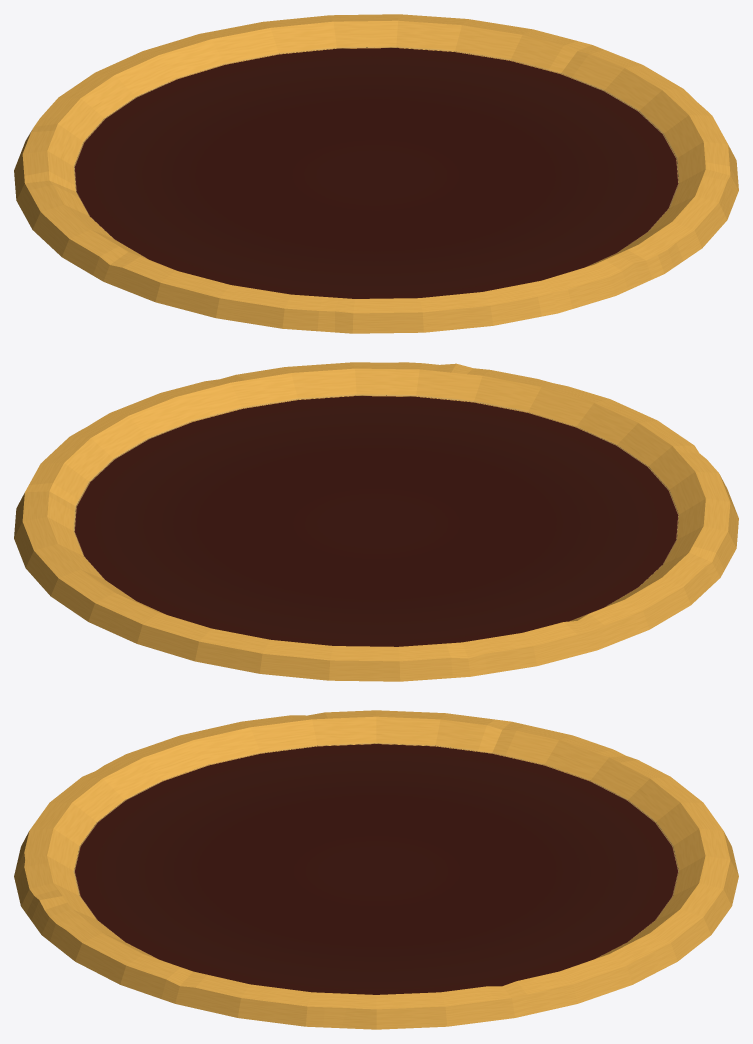
File: WorldItem_PizzaBBQSauced.fbx
3 views of the same model, one above another, from view 1: azimuth 30°, elevation 25°; view 2: azimuth 150°, elevation 25°; view 3: azimuth 270°, elevation 25° (orthographic).
Parts seen in each view (by area): view 1: Pizza; view 2: Pizza; view 3: Pizza.
Part boxes in pixels (x1,y1,x2,y2): Pizza: (14,14,738,333); Pizza: (14,362,738,681); Pizza: (14,710,738,1029).
Bounding box in the file's own units: 45.79 × 2.22 × 45.79.
